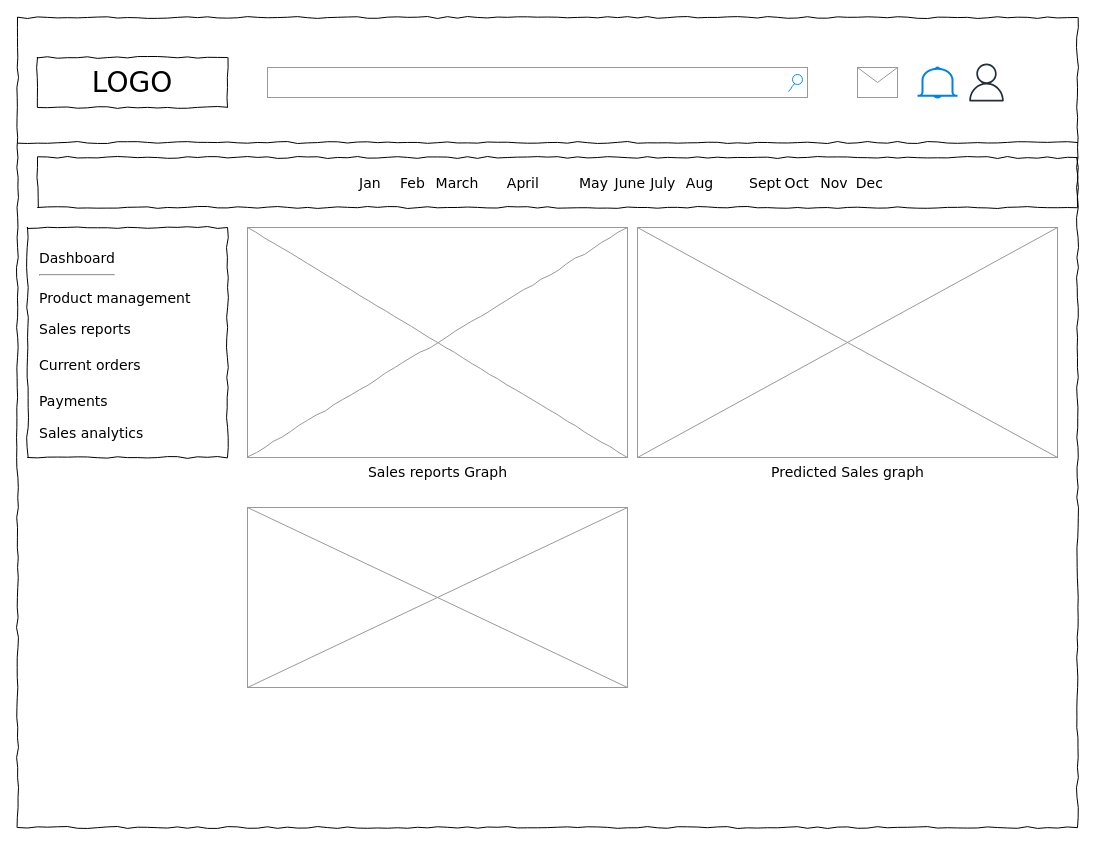
Some shapes in this 1095 by 845 pixel diagram are drawn without their labels. The shapes that lost their labels are listed below. From the top down, each one's centre as x and y in pixels, then its label:
point 537,82: Search
point 437,597: UI graph
